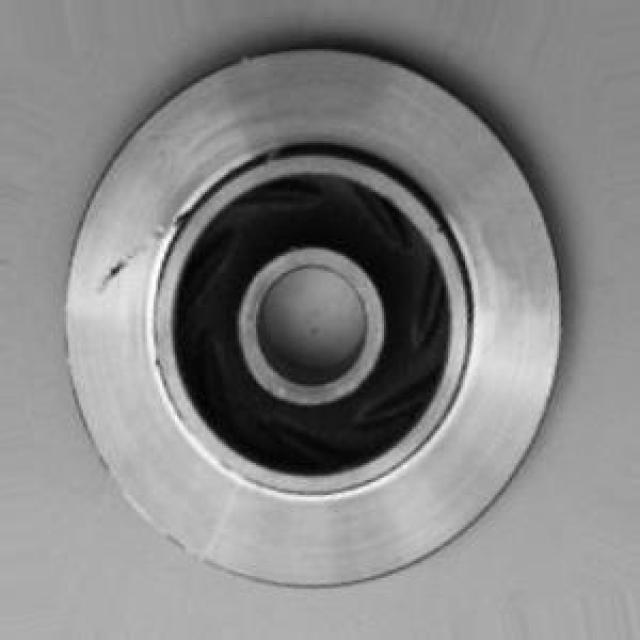Defect: (96, 244, 133, 297), (150, 201, 190, 235)
